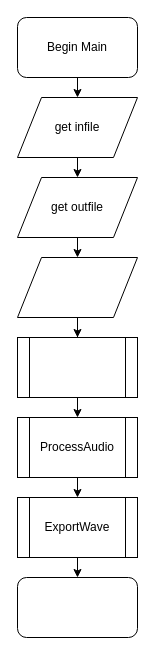
Image size: 155x655. Some labels were removed from this diagram. The shapes that lost their labels are listed below. From the top down, each one's centre as x and y in pixels, then its label:
At point (77, 287): "get option".
At point (77, 367): "ReadWav".
At point (77, 607): "End Main".
